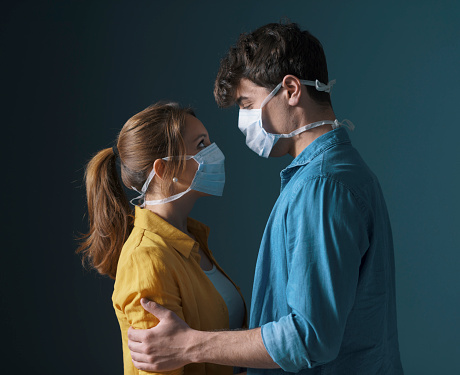with_mask: (239, 87, 279, 160), (191, 131, 219, 192)
